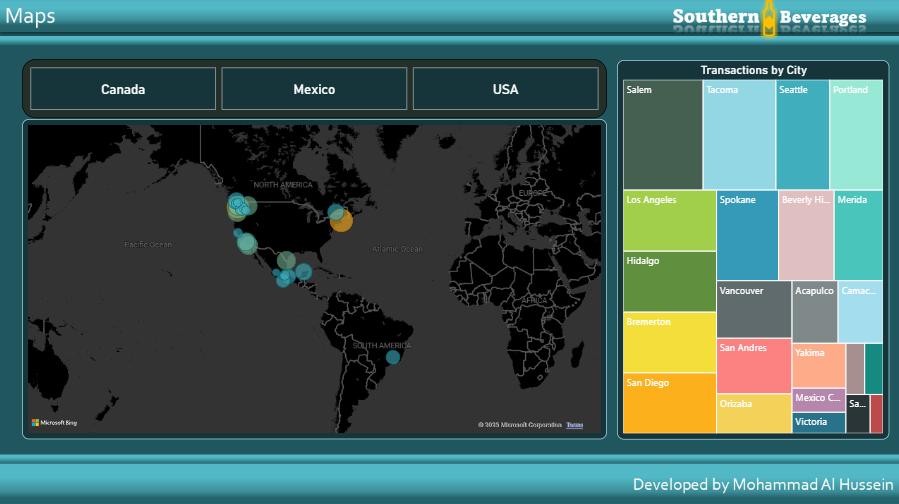

Layout of this report page (visuals, bound fields, positions):
{"tool":"powerbi","page":{"name":"Maps View","canvas":[1280,720],"ordinal":1},"visuals":[{"type":"treemap","title":"Transactions by City","fields":{"Values":["_Measures.Total Transactions"],"Group":["Stores.store_country","Stores.store_state","Stores.store_city"]},"box":[877.8,87.6,386.1,538.1],"z":0},{"type":"map","fields":{"Category":["Stores.store_city"],"Size":["_Measures.Total Transactions"]},"box":[34.2,171.2,829.1,453.8],"z":1000},{"type":"advancedSlicerVisual","fields":{"Values":["Stores.store_country"]},"box":[34.2,87,829.1,84.2],"z":2000}]}

Visuals, with their boxes in screenshot pixels (x1, y1, x2, y2), scaled from the page's 1280x720 canvas onto the 899x504 screenshot:
"Transactions by City" treemap: (617,61,888,438)
map - Stores.store_city x _Measures.Total Transactions: (24,120,606,438)
advancedSlicerVisual - Stores.store_country: (24,61,606,120)
